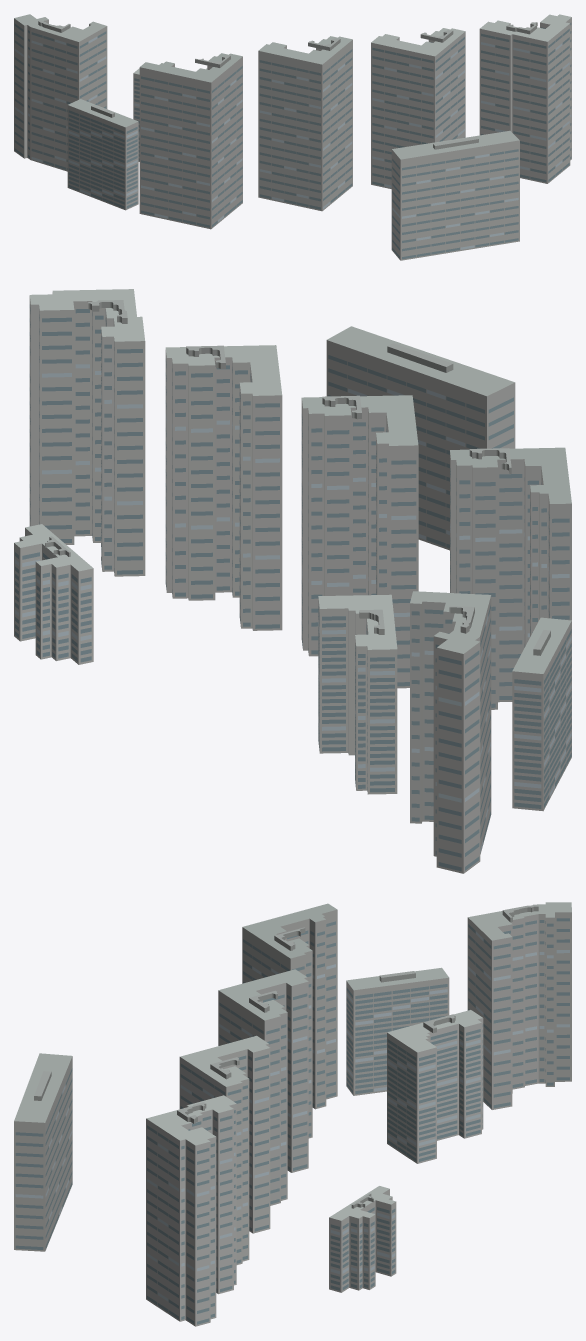
Rendered from apt-a10024745.glb.
3 views of the same model, one above another, from view 1: azimuth 30°, elevation 25°; view 2: azimuth 150°, elevation 25°; view 3: azimuth 270°, elevation 25° (orthographic). The views are drawn at different scales.
Visible parts, largest first — view 1: apt-a10024745; view 2: apt-a10024745; view 3: apt-a10024745.
Boxes of the visible parts, <box> form: apt-a10024745: <box>14,14,571,260</box>; apt-a10024745: <box>14,289,571,873</box>; apt-a10024745: <box>14,902,571,1326</box>.
Bounding box in the file's own units: 283 × 99 × 261.
